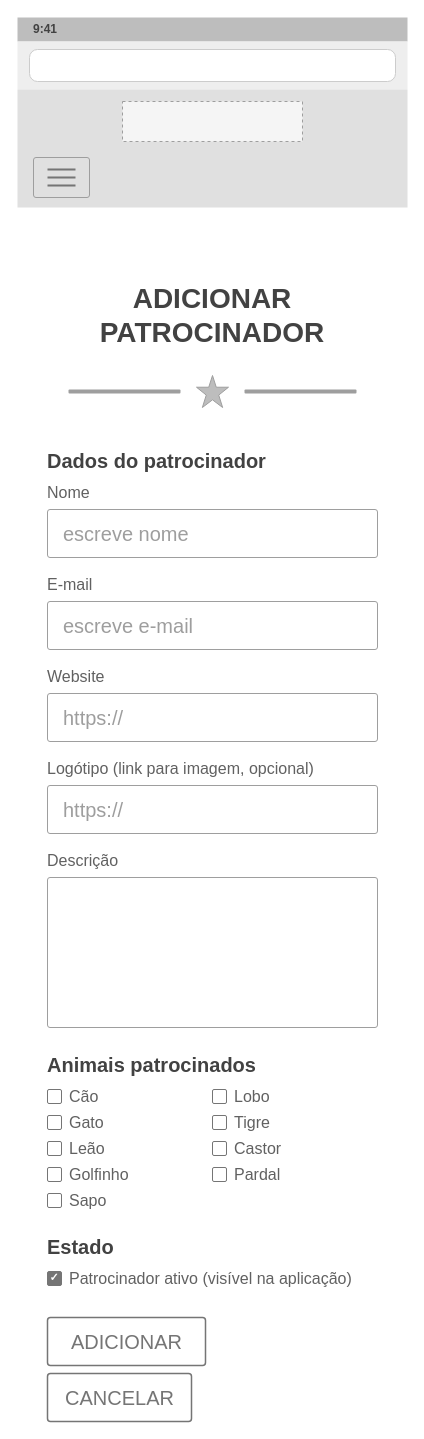
The diagram is 424 pixels wide and 1439 high, and some of its shapes have lost their labels. The shapes that lost their labels are listed below. From the top down, each one's centre as x and y in pixels, then its label:
At (x=212, y=65): "localhost:8081/admin/sponsors/add".
At (x=212, y=121): "LOGÓTIPO".
At (x=212, y=952): "escreve descrição".
